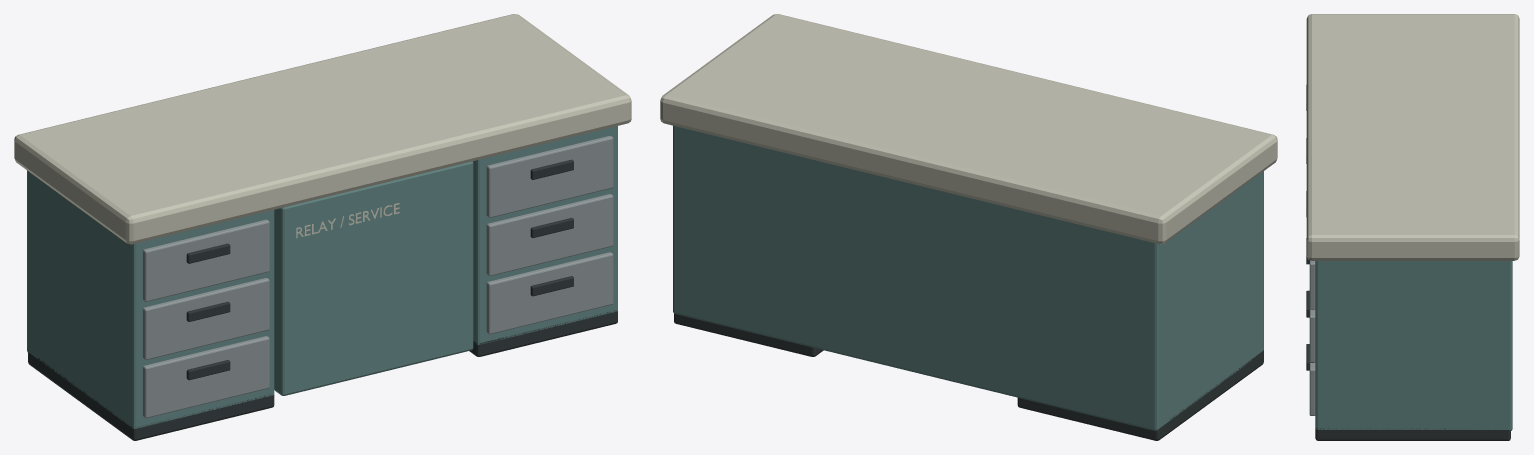
File: relay-desk.glb
3 renders of one model, left to right at view 1: azimuth 30°, elevation 25°; view 2: azimuth 150°, elevation 25°; view 3: azimuth 270°, elevation 25°, orthographic. The views are drawn at different scales.
Parts seen in each view (by area): view 1: relay-desk; view 2: relay-desk; view 3: relay-desk.
Boxes of the visible parts, left/top/right/bottom form: relay-desk: left=14, top=14, right=631, bottom=440; relay-desk: left=660, top=14, right=1277, bottom=440; relay-desk: left=1306, top=14, right=1519, bottom=440.
Size of what is drawn, in the model's own units: 3 by 1.3 by 1.2.
